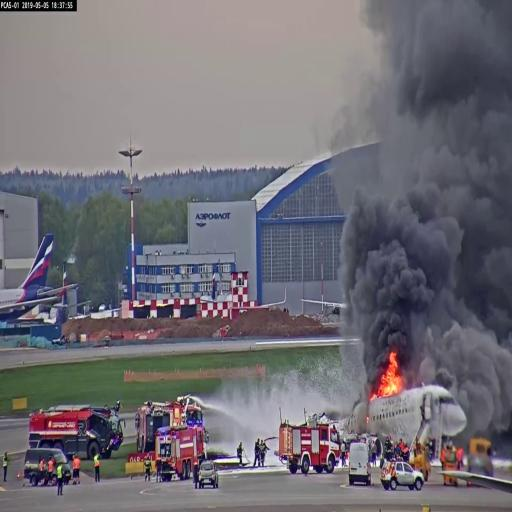fire: (373, 357, 405, 403)
smoke: (396, 11, 512, 206), (342, 192, 422, 354), (431, 321, 512, 388)
